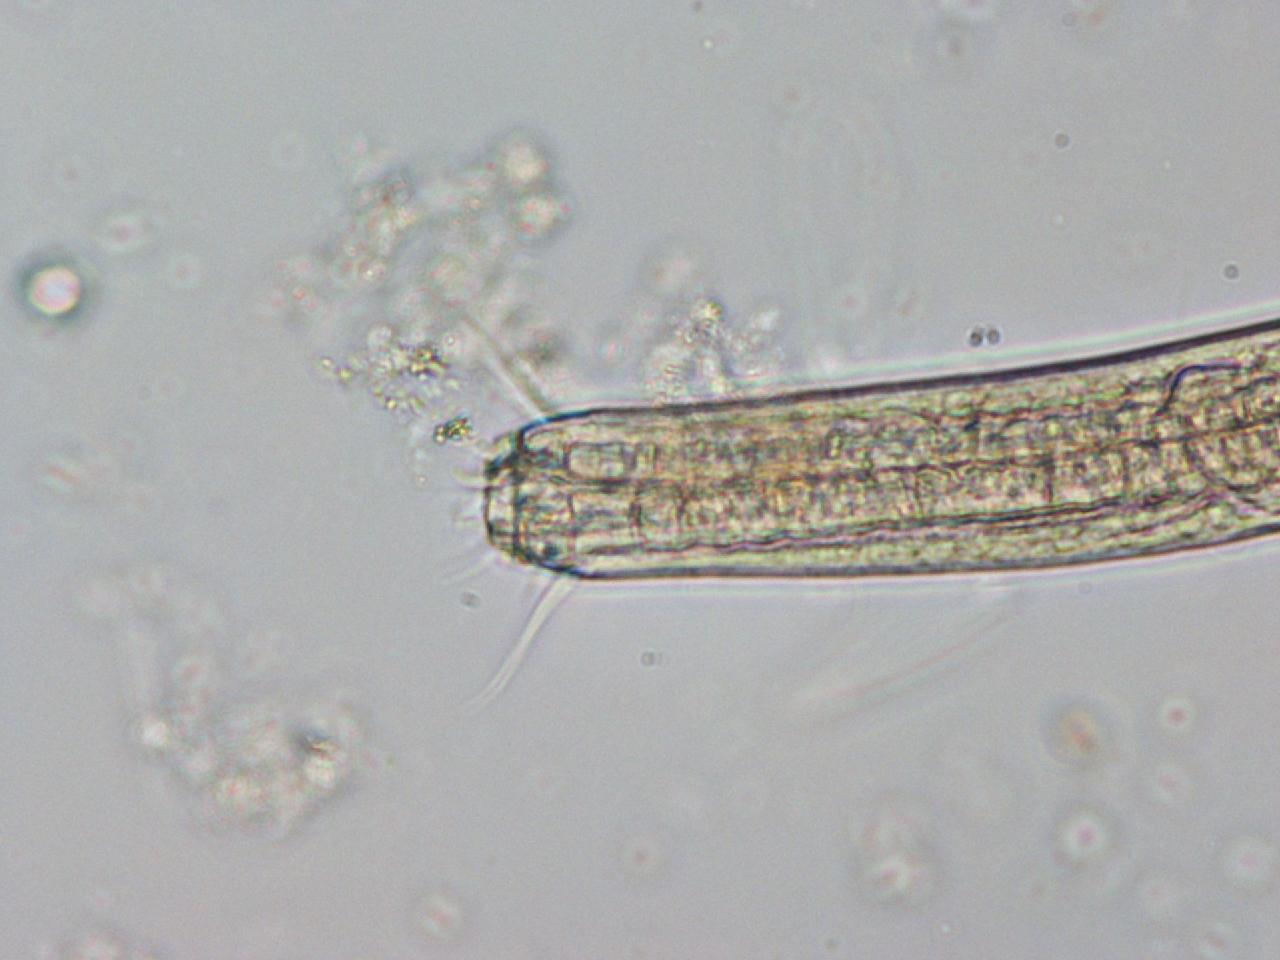nematode: (444, 309, 1277, 714)
